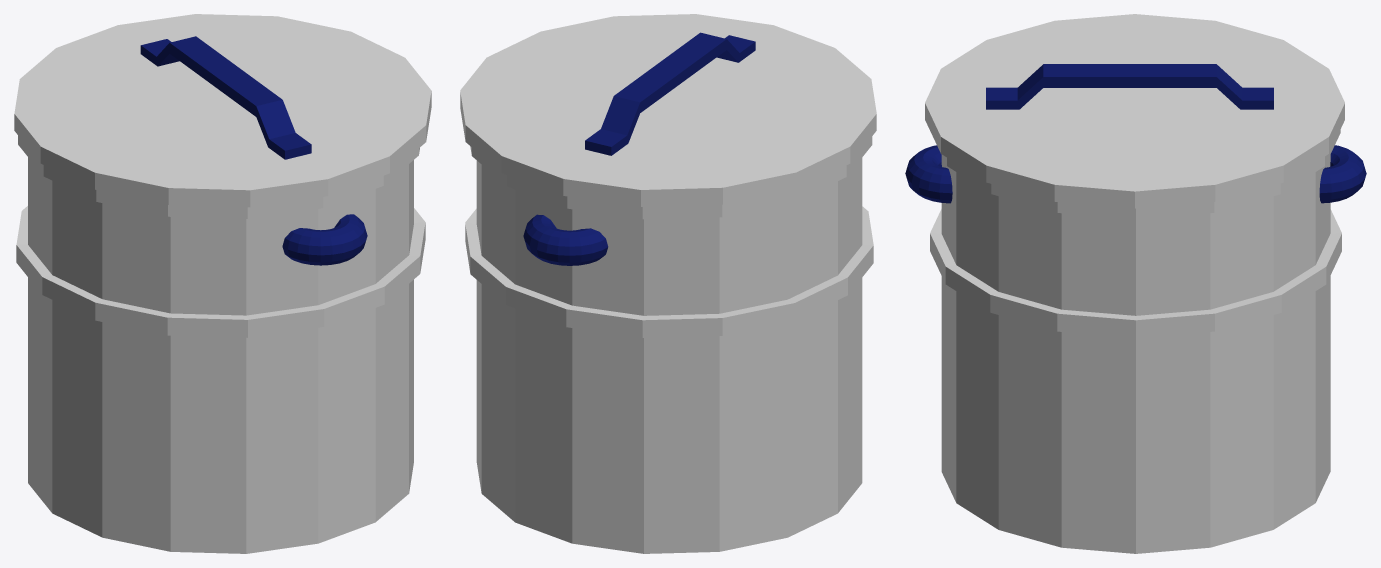
The model's file is Olla.fbx.
The picture shows the model from 3 angles, left to right: view 1: azimuth 30°, elevation 25°; view 2: azimuth 150°, elevation 25°; view 3: azimuth 270°, elevation 25°; orthographic projection.
Parts seen in each view (by area): view 1: Olla, Tapa, Mango, MangoLat; view 2: Olla, Tapa, Mango, MangoLat1; view 3: Olla, Tapa, Mango, MangoLat, MangoLat1.
Part boxes in pixels (box(x1,y1,x2,y2)): Olla: box(16, 135, 425, 553); Tapa: box(14, 14, 431, 207); Mango: box(140, 36, 311, 159); MangoLat: box(282, 214, 367, 265); Olla: box(465, 136, 873, 553); Tapa: box(460, 14, 876, 206); Mango: box(585, 32, 755, 155); MangoLat1: box(523, 214, 608, 265); Olla: box(930, 130, 1341, 553); Tapa: box(925, 14, 1344, 208); Mango: box(986, 64, 1273, 109); MangoLat: box(905, 145, 952, 203); MangoLat1: box(1319, 145, 1366, 203).
Size of the model in its own units: 216 by 228 by 237.
